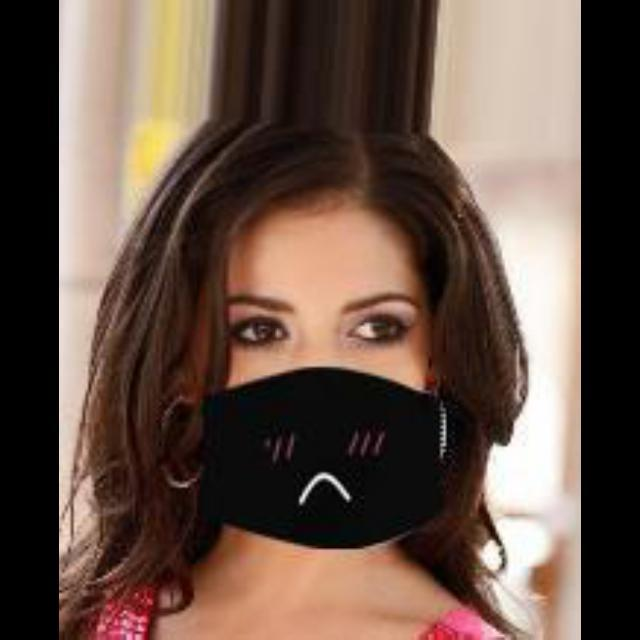suspicion: (128, 126, 544, 540)
